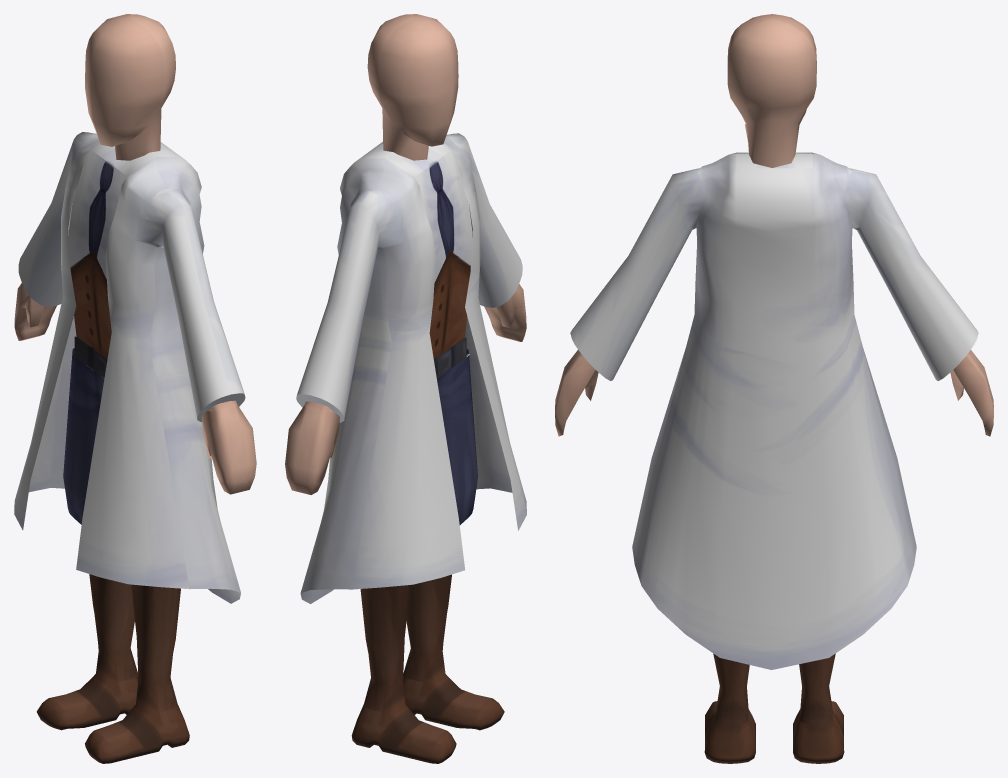
File: main_character.fbx
The picture shows the model from 3 angles, left to right: view 1: azimuth 30°, elevation 25°; view 2: azimuth 150°, elevation 25°; view 3: azimuth 270°, elevation 25°; orthographic projection. The views are drawn at different scales.
Parts seen in each view (by area): view 1: character; view 2: character; view 3: character.
Boxes of the visible parts, box(x1,y1,x2,y2) form: character: box(14, 14, 256, 763); character: box(285, 14, 526, 763); character: box(555, 14, 993, 763).
Bounding box in the file's own units: 51.92 × 218 × 119.
